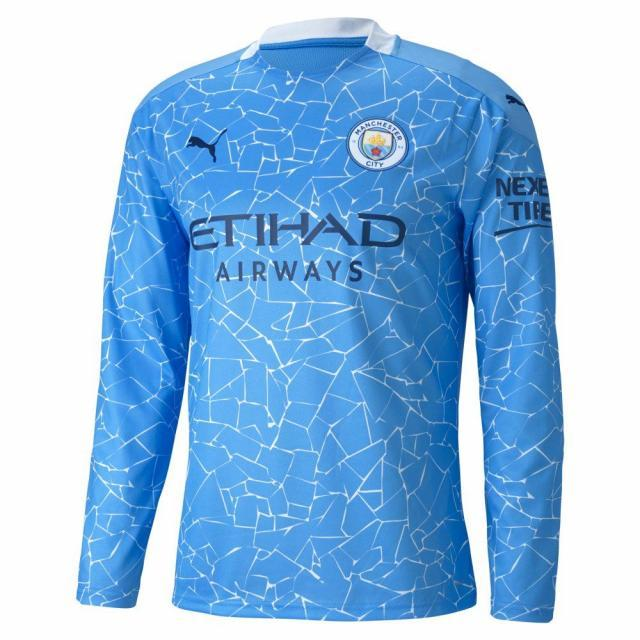Etihad Airways: (186, 207, 406, 284)
Puma: (181, 125, 226, 165)
